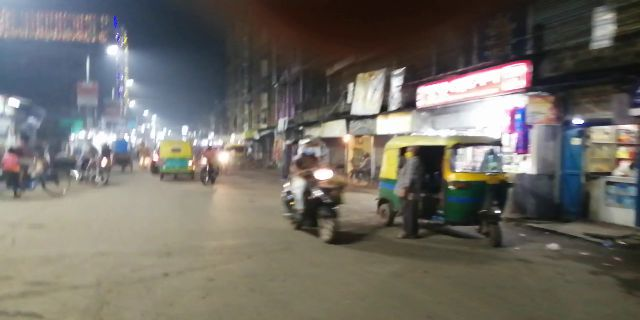Autorickshaw: (380, 130, 523, 257), (159, 135, 197, 184)
Motorbike: (270, 130, 347, 255)
